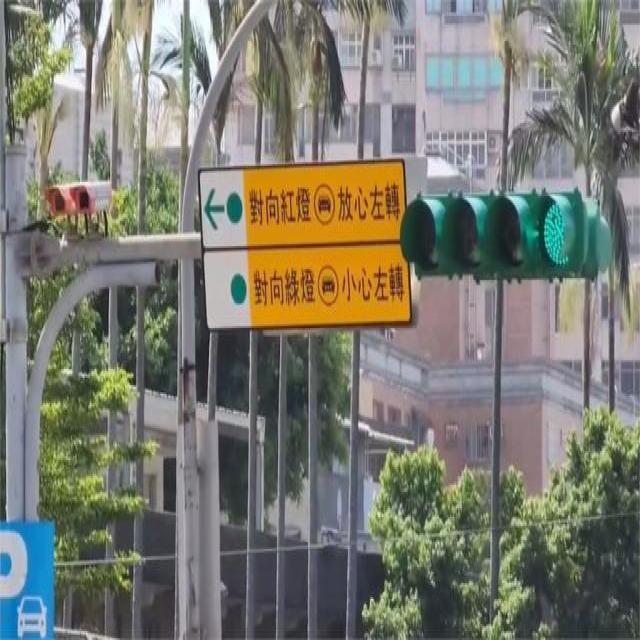green light: (399, 188, 615, 279)
